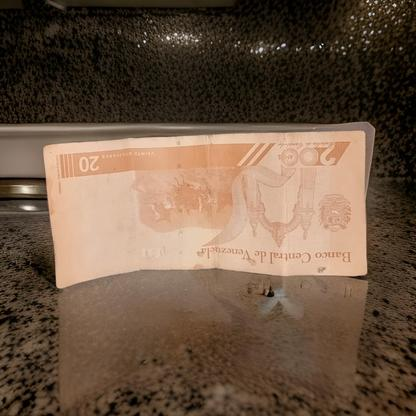twenty-back-vef: (42, 129, 368, 289)
